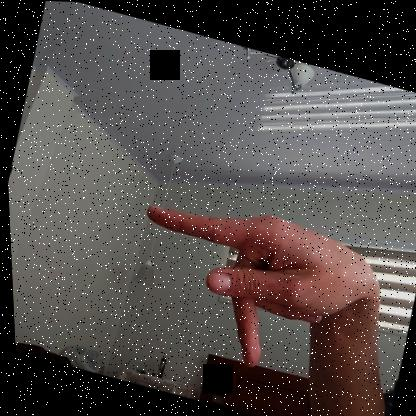P: (112, 179, 383, 392)
